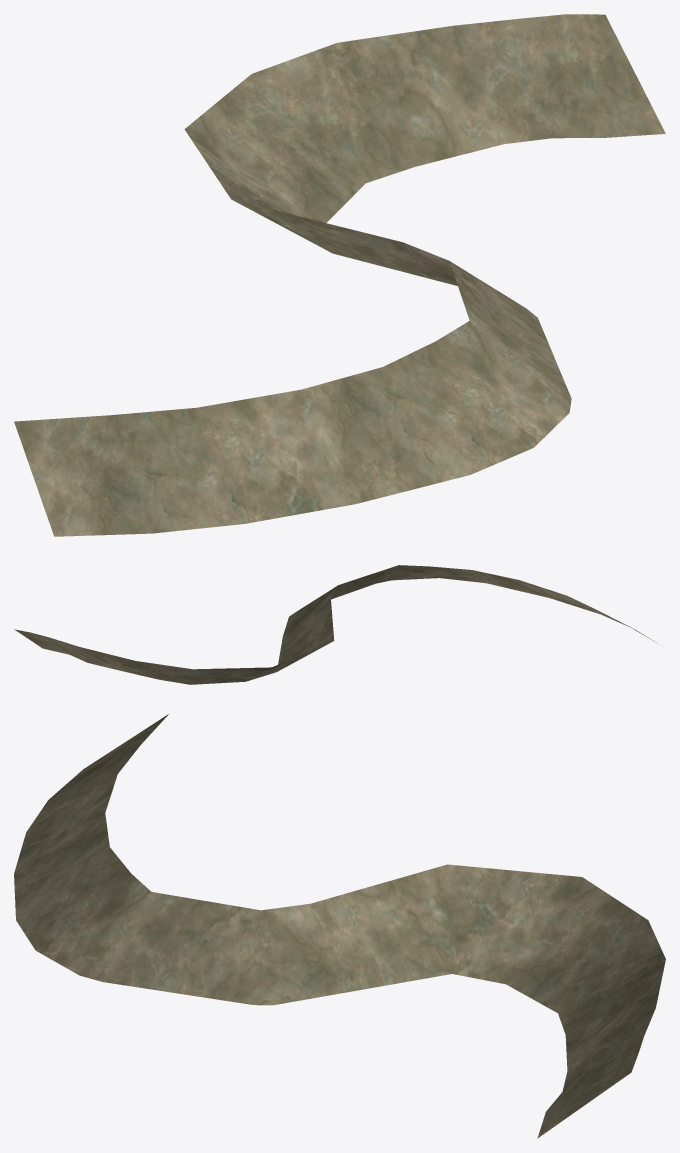
File: OVERHILL_A_01_OBJECT181.fbx
3 views of the same model, one above another, from view 1: azimuth 30°, elevation 25°; view 2: azimuth 150°, elevation 25°; view 3: azimuth 270°, elevation 25° (orthographic). The views are drawn at different scales.
Parts seen in each view (by area): view 1: OVERHILL_A_01_OBJECT181; view 2: OVERHILL_A_01_OBJECT181; view 3: OVERHILL_A_01_OBJECT181.
Part boxes in pixels (left/top/right/bottom): OVERHILL_A_01_OBJECT181: left=14, top=14, right=665, bottom=536; OVERHILL_A_01_OBJECT181: left=14, top=565, right=657, bottom=684; OVERHILL_A_01_OBJECT181: left=14, top=714, right=665, bottom=1138.
Bounding box in the file's own units: 258834 × 26638 × 199757.
1 material, 1 textured.
